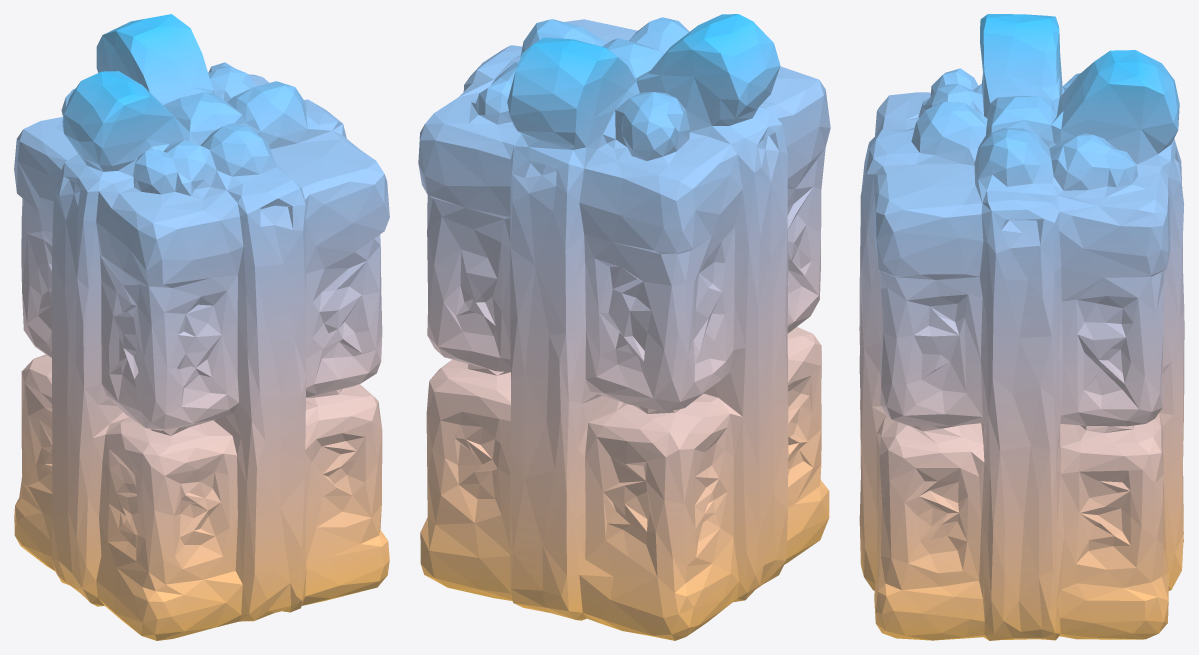
File: 64_cyb_laser_gradient_fish_scales_2975_2026_10_03_f7c599.glb
3 views of the same model, side by side, from view 1: azimuth 30°, elevation 25°; view 2: azimuth 150°, elevation 25°; view 3: azimuth 270°, elevation 25° (orthographic). The views are drawn at different scales.
Visible parts, largest first — view 1: geometry_0; view 2: geometry_0; view 3: geometry_0.
Part boxes in pixels (bbox=[...]): geometry_0: bbox=[14, 14, 389, 640]; geometry_0: bbox=[418, 14, 830, 640]; geometry_0: bbox=[859, 14, 1184, 640].
Bounding box in the file's own units: 0.5649 × 1 × 0.5631.
